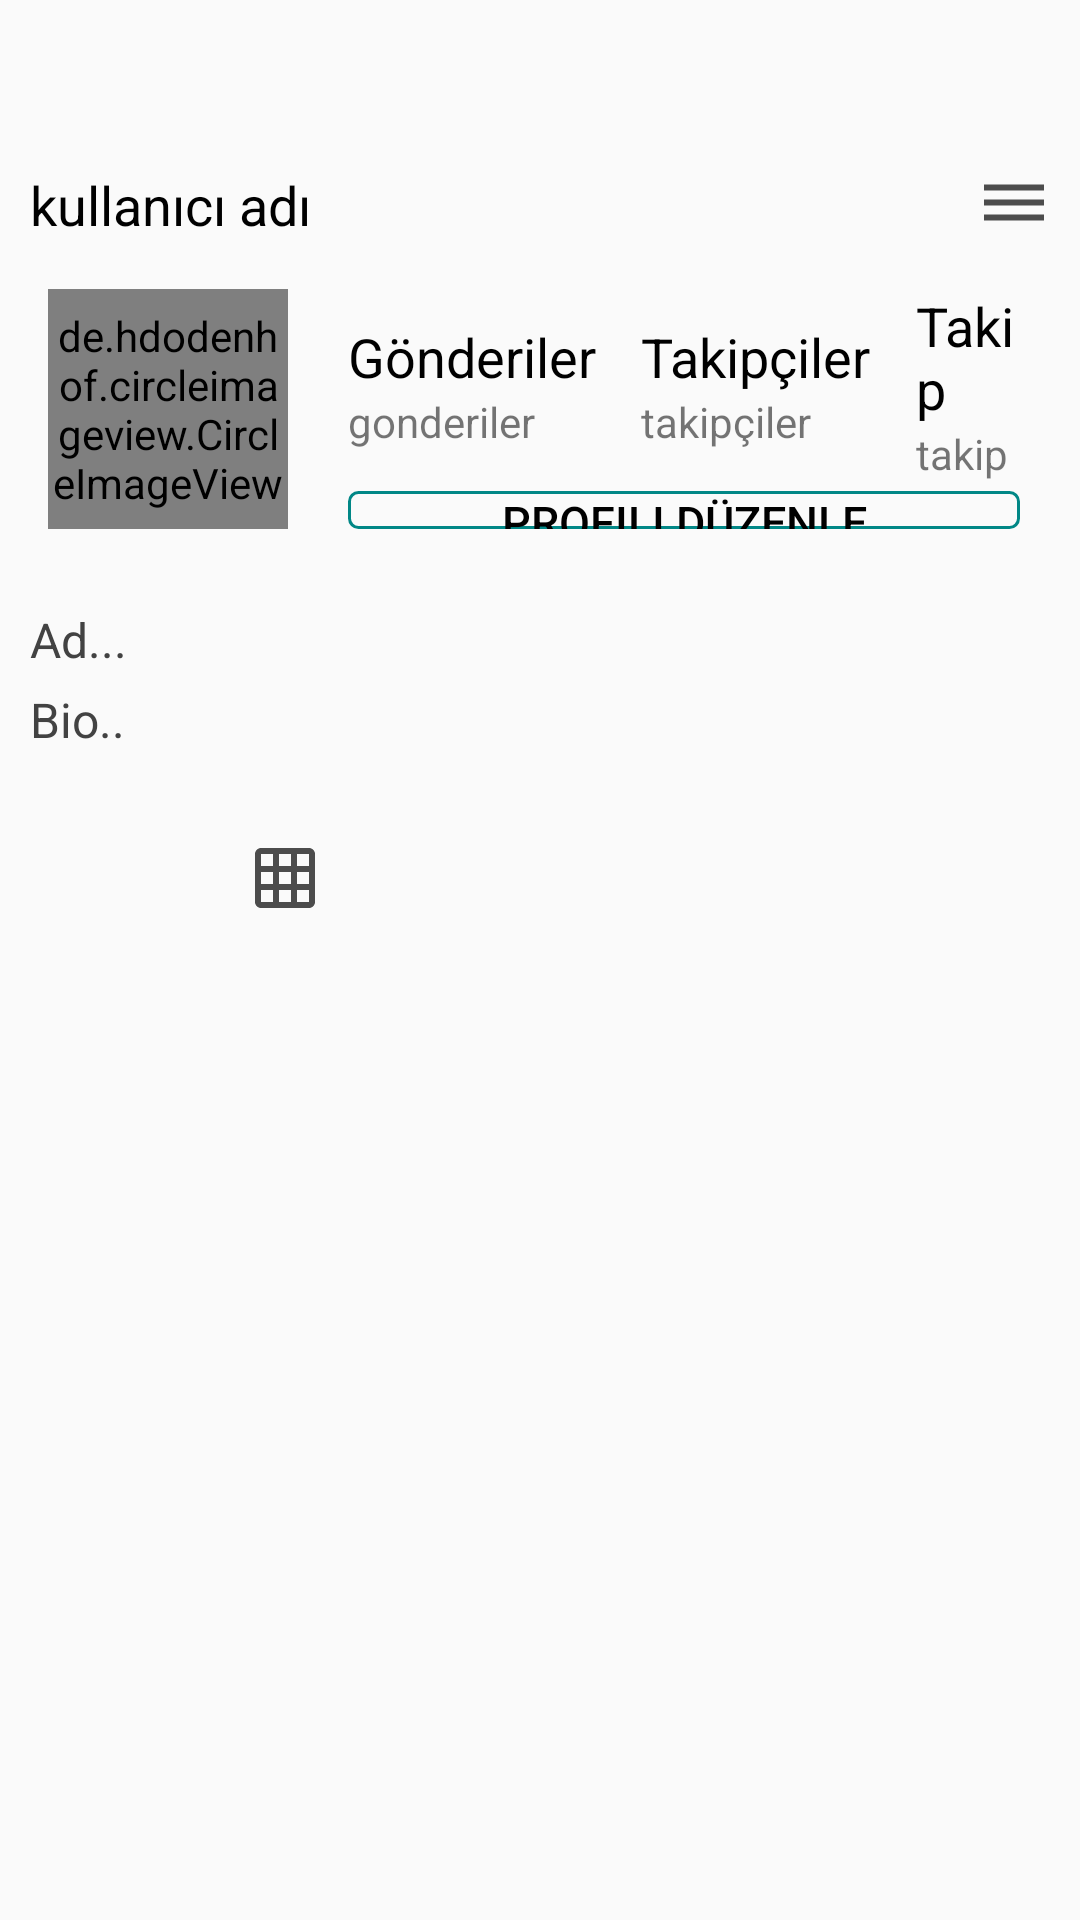

Named icons in this screenshot (1080px x 1920px) and their bounding boxes, [x1, y1, x2, y2]:
izgara: [255, 848, 315, 908]
secenekler: [984, 184, 1044, 221]
